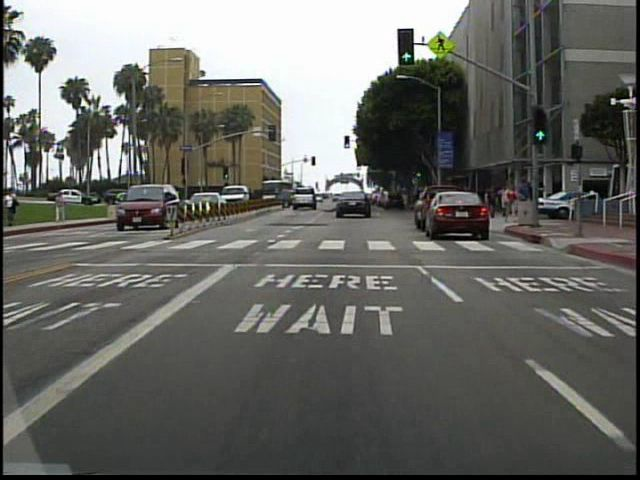person: (7, 188, 26, 229), (519, 178, 535, 220), (56, 187, 73, 225), (503, 184, 519, 224)
